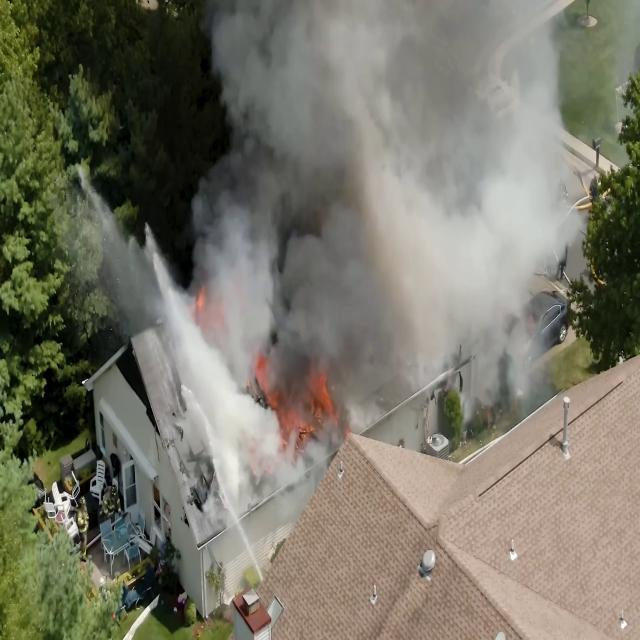Fire: (271, 369, 339, 461)
Smoke: (282, 0, 535, 218), (346, 1, 477, 340)
